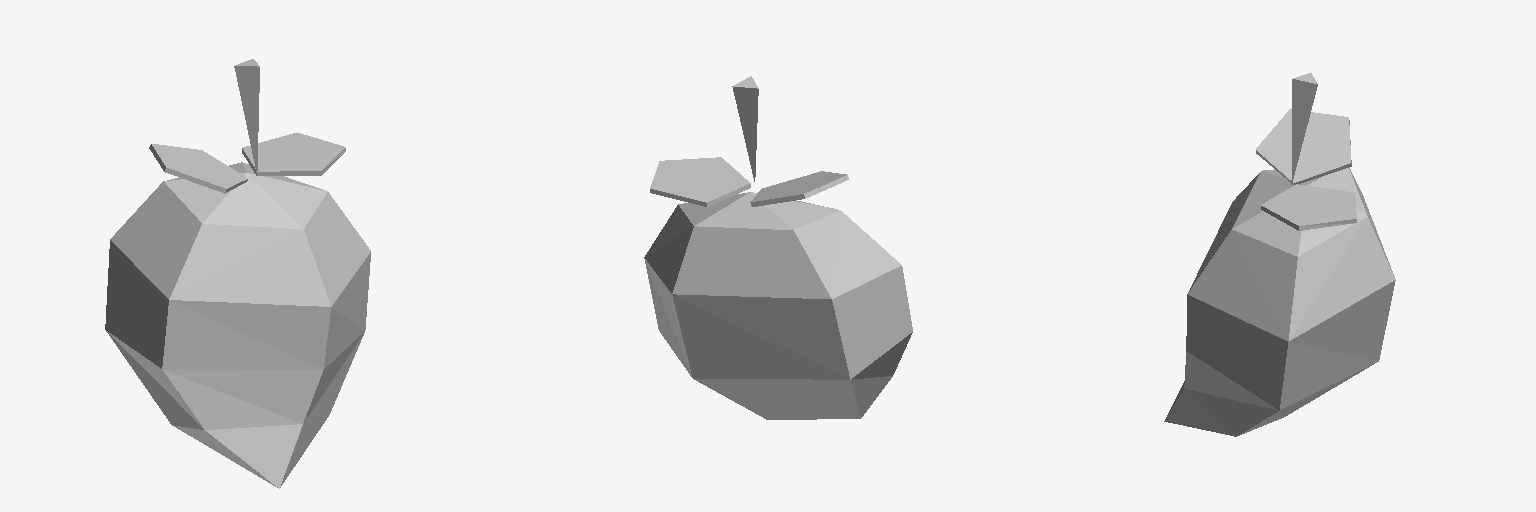
The model's file is fruit3.obj.
The picture shows the model from 3 angles: view 1: azimuth 30°, elevation 25°; view 2: azimuth 150°, elevation 25°; view 3: azimuth 270°, elevation 25°; orthographic projection.
Visible parts, largest first — view 1: fruit3:polySurface2; view 2: fruit3:polySurface2; view 3: fruit3:polySurface2.
Part boxes in pixels (left/top/right/bottom): fruit3:polySurface2: left=105, top=59, right=370, bottom=488; fruit3:polySurface2: left=644, top=76, right=912, bottom=419; fruit3:polySurface2: left=1164, top=73, right=1395, bottom=436.
Size of the model in its own units: 50.41 by 73.46 by 42.28.